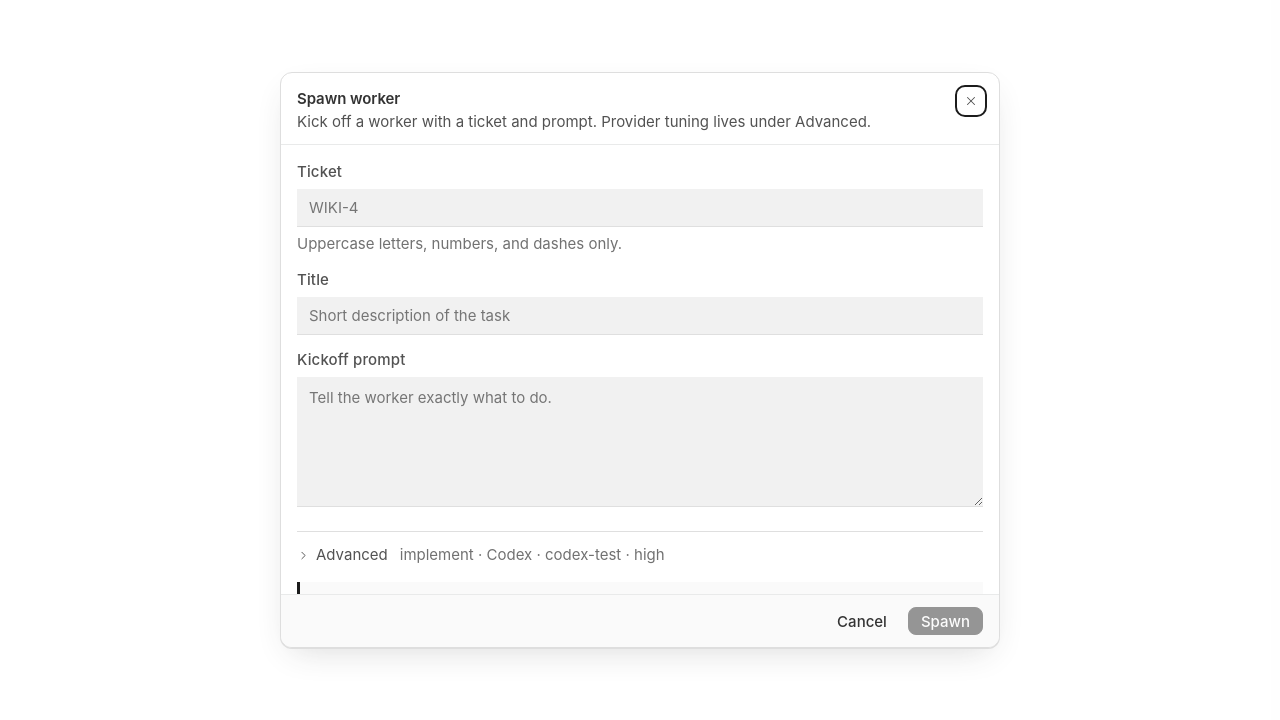
Scenario: context preview is off by default
This screenshot has width=1280, height=720.
Click the button "Advanced implement · Codex · codex-test · high": (481, 555) [297, 540, 665, 570]
(page scrolled)
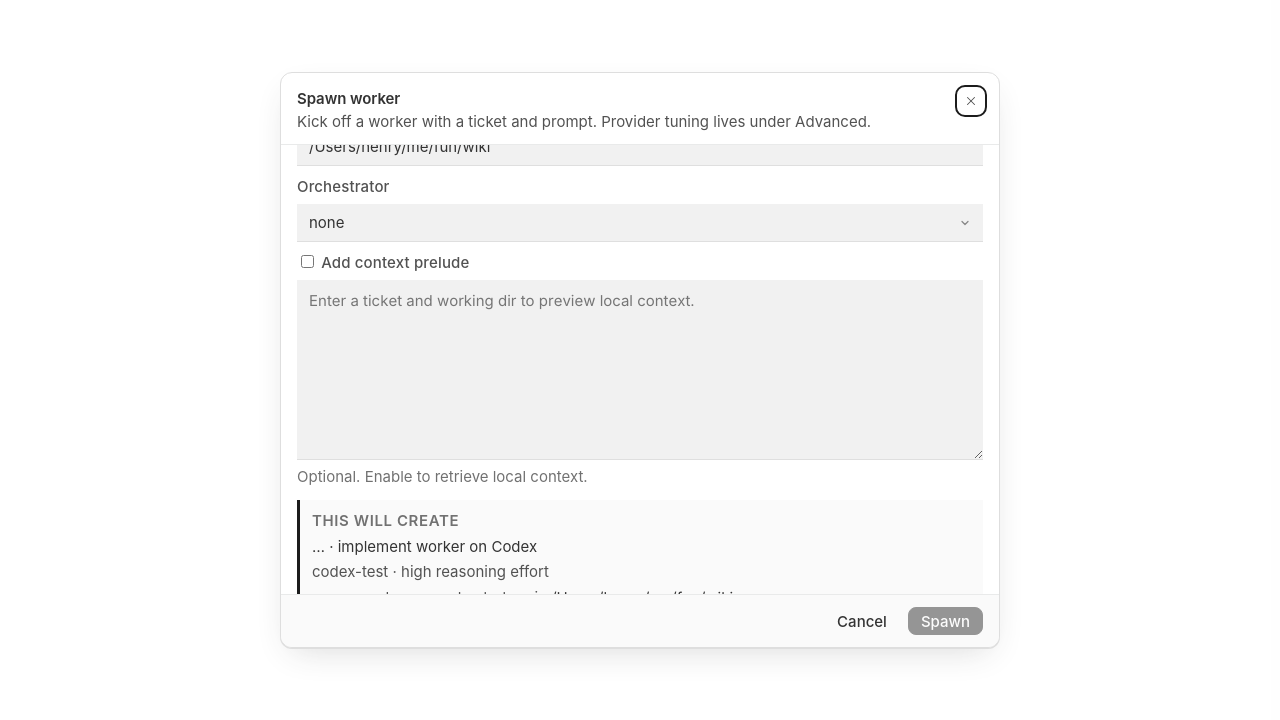
Now the checkbox is not checked, box [301, 255, 314, 268]
Now the text box named "Context prelude" is disabled, box [297, 280, 983, 460]
